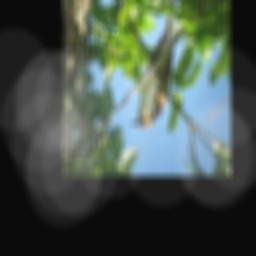Cuckoo: (128, 0, 178, 130)
